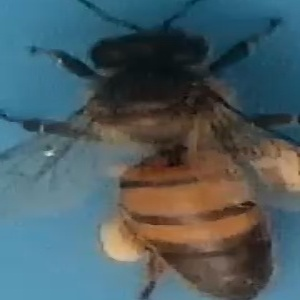bee: (22, 1, 300, 299)
